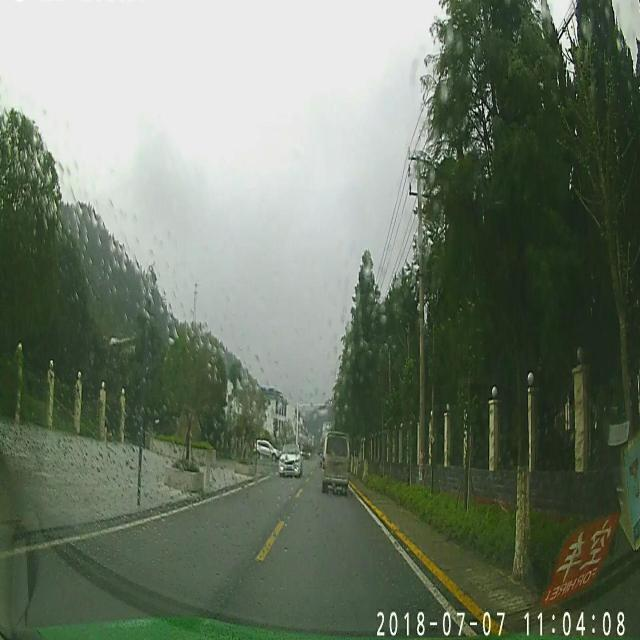car: (321, 427, 349, 498), (280, 438, 300, 476), (253, 439, 280, 467)
